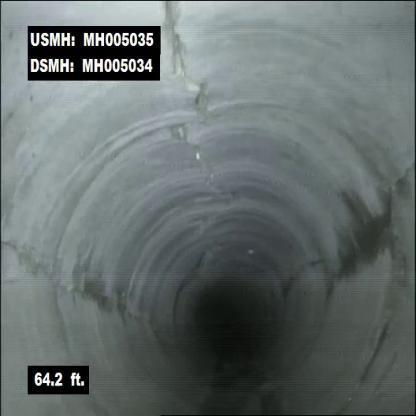Buckling: (163, 4, 216, 115), (168, 122, 206, 163)
Crack: (4, 237, 54, 279), (389, 163, 414, 207), (58, 277, 102, 302)
